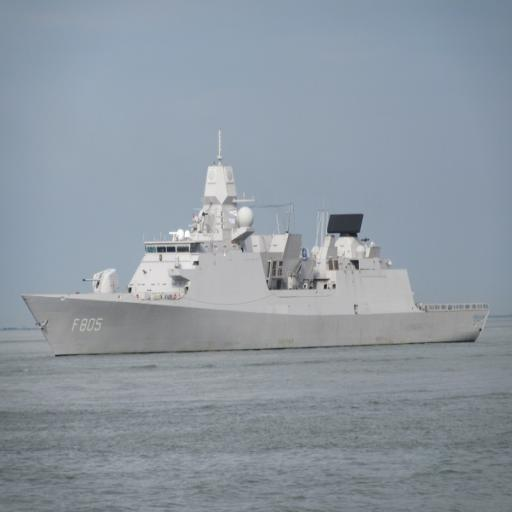Fragata: (18, 128, 493, 361)
